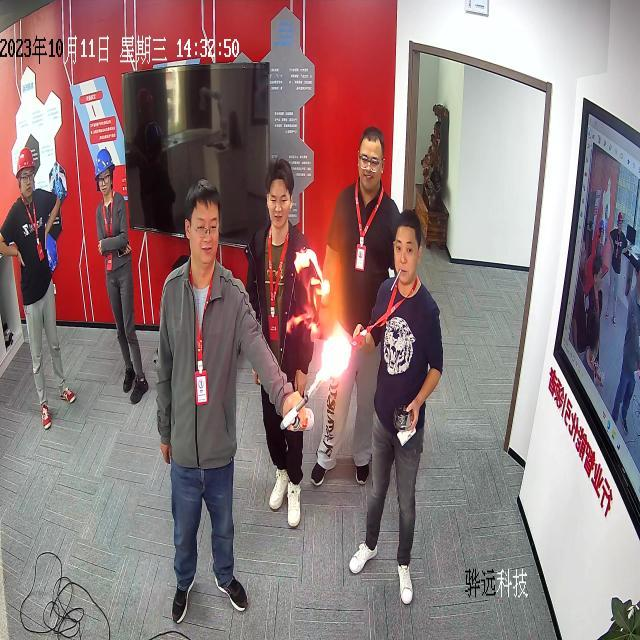Fire: (287, 248, 328, 334), (308, 328, 351, 398)
